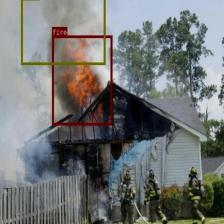fire: (52, 35, 111, 125)
smoke: (20, 0, 105, 64)
